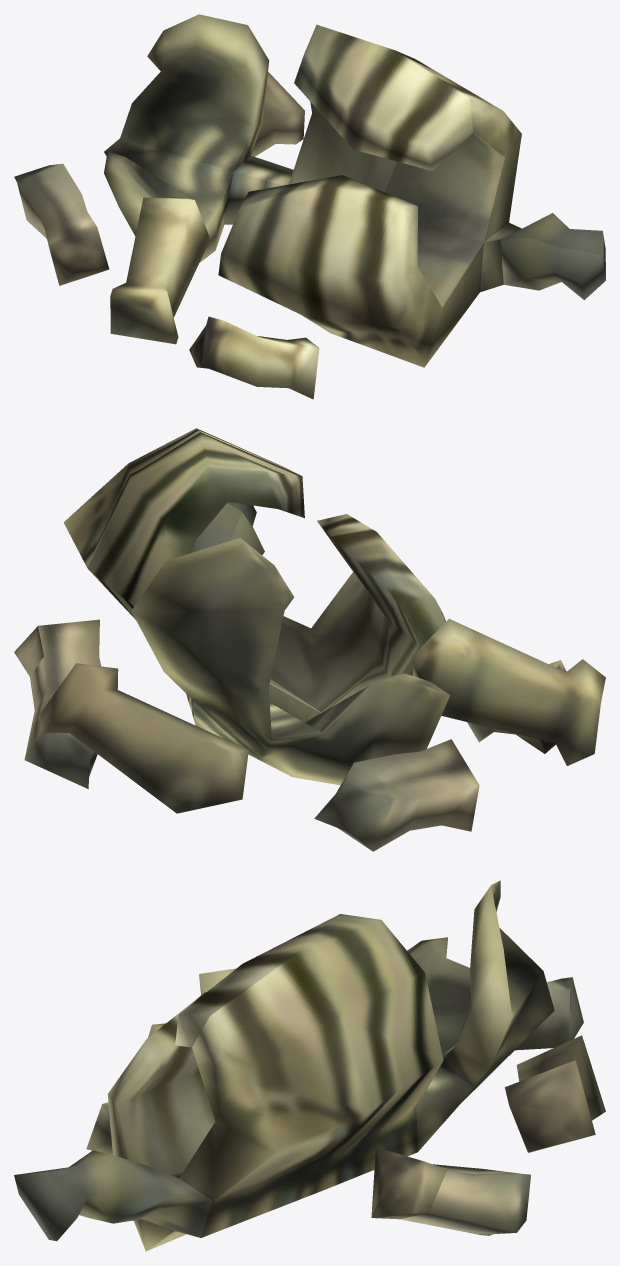
The model's file is kulou_03.FBX.
3 renders of one model, top to bottom at view 1: azimuth 30°, elevation 25°; view 2: azimuth 150°, elevation 25°; view 3: azimuth 270°, elevation 25°, orthographic. The views are drawn at different scales.
Parts seen in each view (by area): view 1: kulou_02_polySurface505_polySurface503_polySurface501_pasted; view 2: kulou_02_polySurface505_polySurface503_polySurface501_pasted; view 3: kulou_02_polySurface505_polySurface503_polySurface501_pasted.
Boxes of the visible parts, x1,y1,x2,y2 form: kulou_02_polySurface505_polySurface503_polySurface501_pasted: [14, 14, 605, 399]; kulou_02_polySurface505_polySurface503_polySurface501_pasted: [14, 428, 605, 851]; kulou_02_polySurface505_polySurface503_polySurface501_pasted: [14, 880, 605, 1251].
Bounding box in the file's own units: 14.74 × 9.09 × 14.95.
